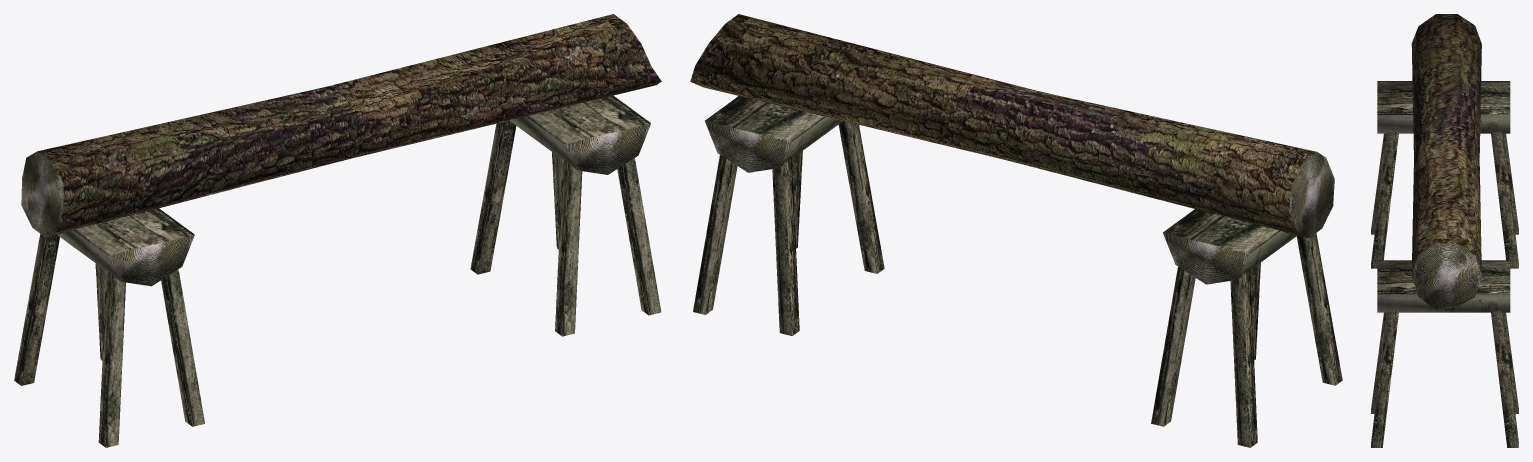
The model's file is KM_VOB_SAWSTATION.glb.
The picture shows the model from 3 angles, left to right: view 1: azimuth 30°, elevation 25°; view 2: azimuth 150°, elevation 25°; view 3: azimuth 270°, elevation 25°; orthographic projection. The views are drawn at different scales.
Visible parts, largest first — view 1: Mesh; view 2: Mesh; view 3: Mesh.
Boxes of the visible parts, box(x1,y1,x2,y2) form: Mesh: box(14, 14, 661, 447); Mesh: box(690, 14, 1342, 447); Mesh: box(1371, 14, 1518, 447).
Size of the model in its own units: 2.59 by 1.06 by 0.6754.
4 materials, 4 textured.
